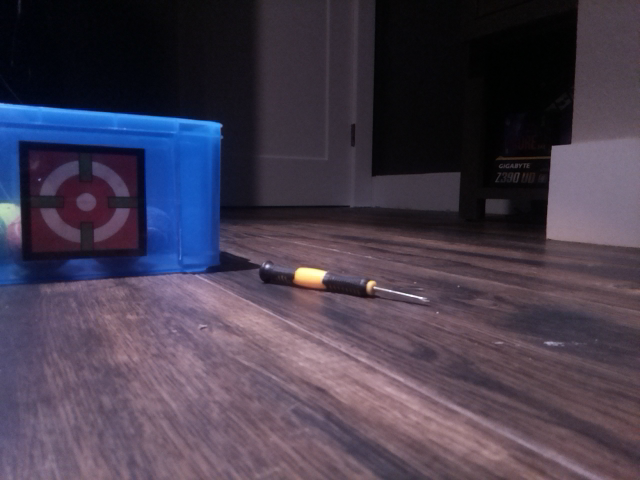drop-bin: (17, 139, 148, 263)
